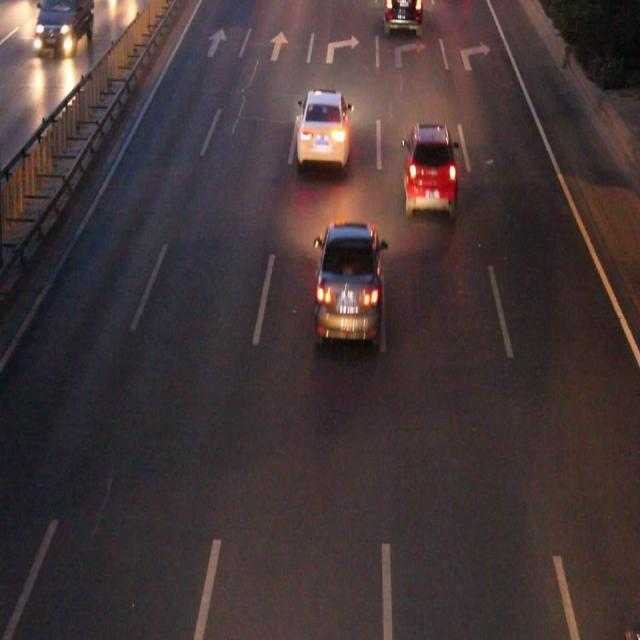car: (316, 225, 380, 334), (404, 128, 454, 209), (298, 93, 348, 163), (384, 1, 420, 29)
